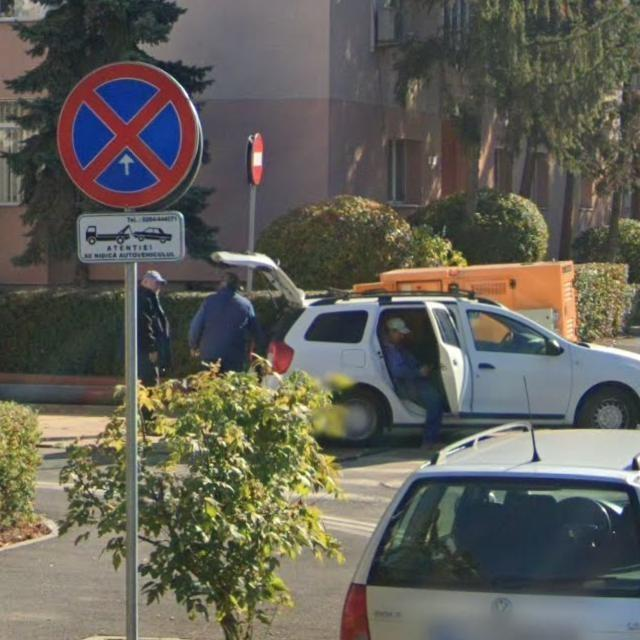forb_waiting: (56, 60, 197, 210)
